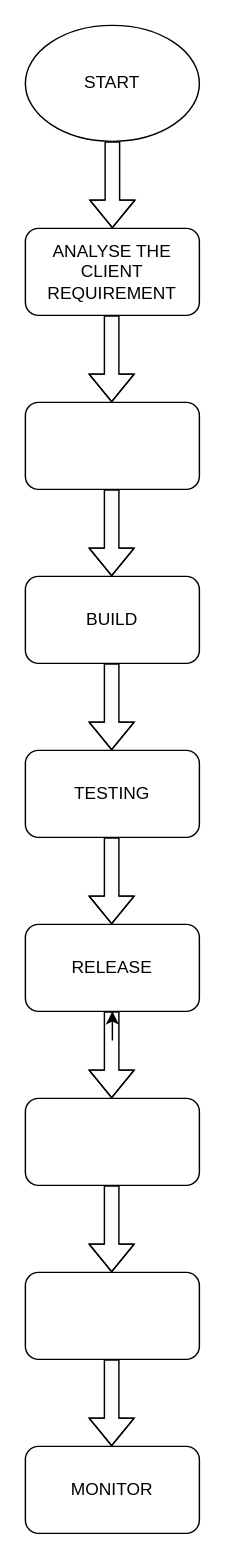
Some shapes in this 225 by 1559 pixel diagram are drawn without their labels. Each missing label, with the box of its shape:
DEPLOY: (24, 1097, 199, 1185)
OPERATE: (24, 1271, 199, 1359)
PLAN: (24, 401, 199, 489)
